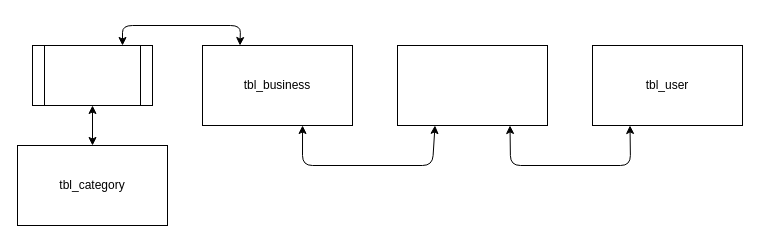
The diagram is 760 pixels wide and 243 high, and some of its shapes have lost their labels. The shapes that lost their labels are listed below. From the top down, each one's centre as x and y in pixels, then its label:
At point 92,75: "bus_cat_link".
At point 472,85: "tbl_review".
